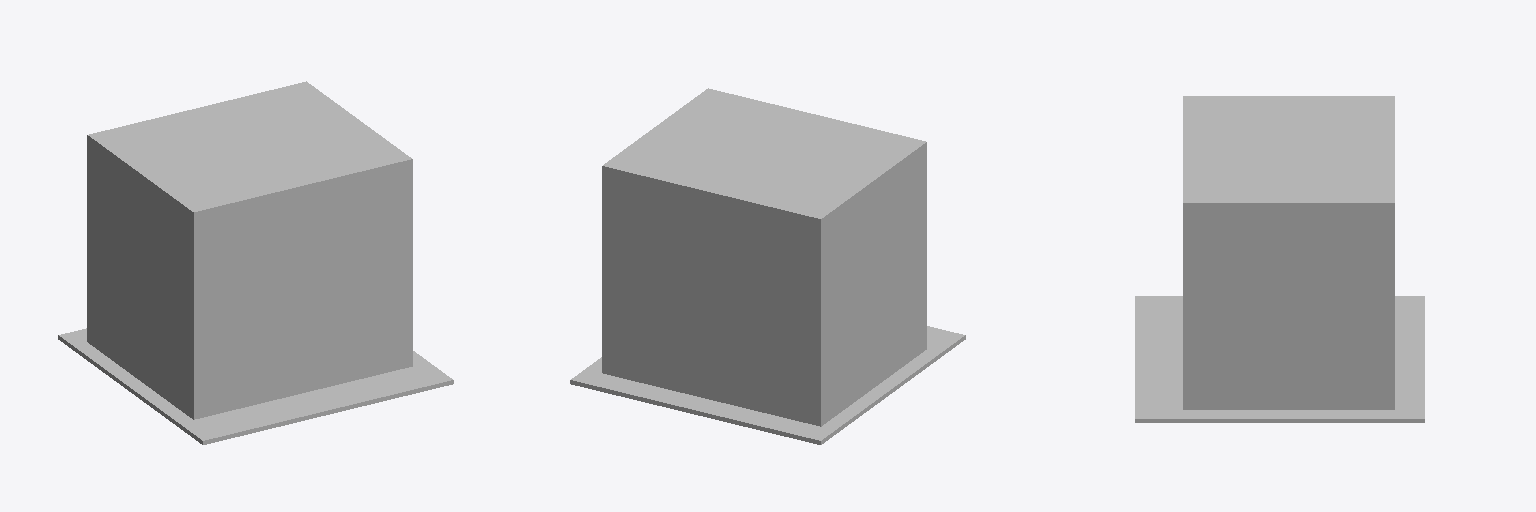
The model's file is boundingbox.obj.
3 renders of one model, left to right at view 1: azimuth 30°, elevation 25°; view 2: azimuth 150°, elevation 25°; view 3: azimuth 270°, elevation 25°, orthographic.
Bounding box in the file's own units: 6 × 4.85 × 6.